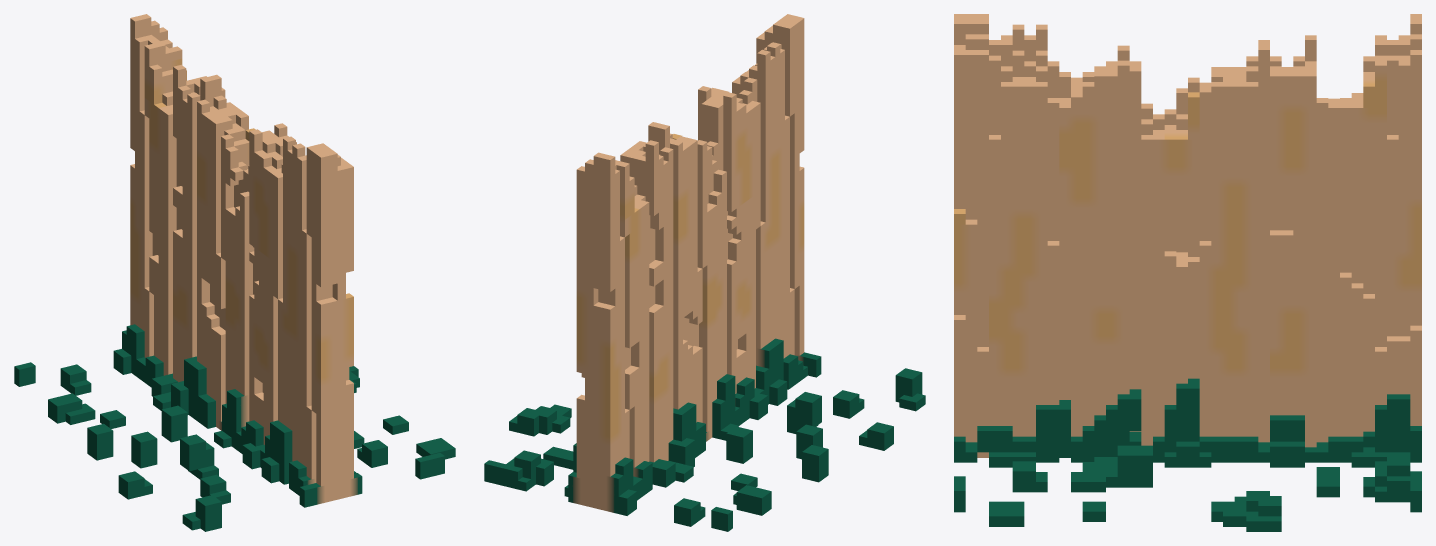
File: outside wall 2.obj
3 renders of one model, left to right at view 1: azimuth 30°, elevation 25°; view 2: azimuth 150°, elevation 25°; view 3: azimuth 270°, elevation 25°, orthographic. The views are drawn at different scales.
Visible parts, largest first — view 1: outsidewall2; view 2: outsidewall2; view 3: outsidewall2.
Boxes of the visible parts, <box> form: outsidewall2: <box>14,14,455,531</box>; outsidewall2: <box>484,14,925,531</box>; outsidewall2: <box>954,14,1421,531</box>.
Bounding box in the file's own units: 36 × 40 × 40.
1 material, 1 textured.
